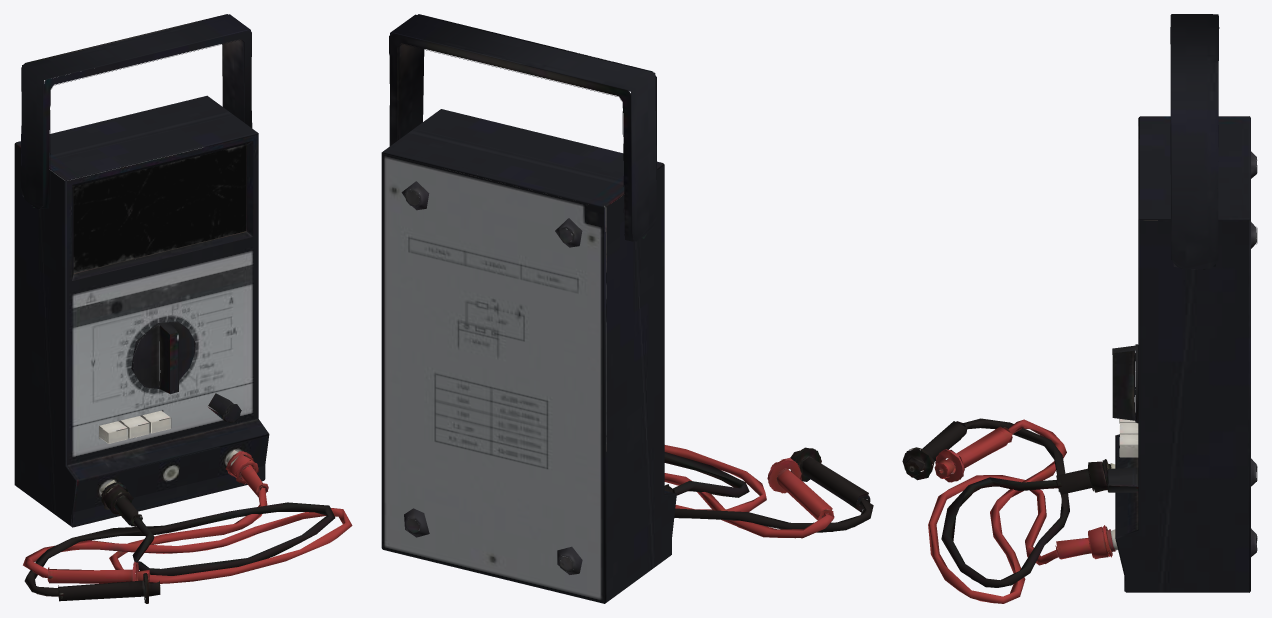
Rendered from retro_multimeter.glb.
The picture shows the model from 3 angles, left to right: view 1: azimuth 30°, elevation 25°; view 2: azimuth 150°, elevation 25°; view 3: azimuth 270°, elevation 25°; orthographic projection. The views are drawn at different scales.
Parts seen in each view (by area): view 1: retro_multimeter; view 2: retro_multimeter; view 3: retro_multimeter.
Boxes of the visible parts, <box> form: retro_multimeter: <box>14,14,352,603</box>; retro_multimeter: <box>381,14,873,603</box>; retro_multimeter: <box>902,14,1257,603</box>.
Size of the model in its own units: 0.2163 by 0.2788 by 0.1892.
2 materials, 2 textured.
